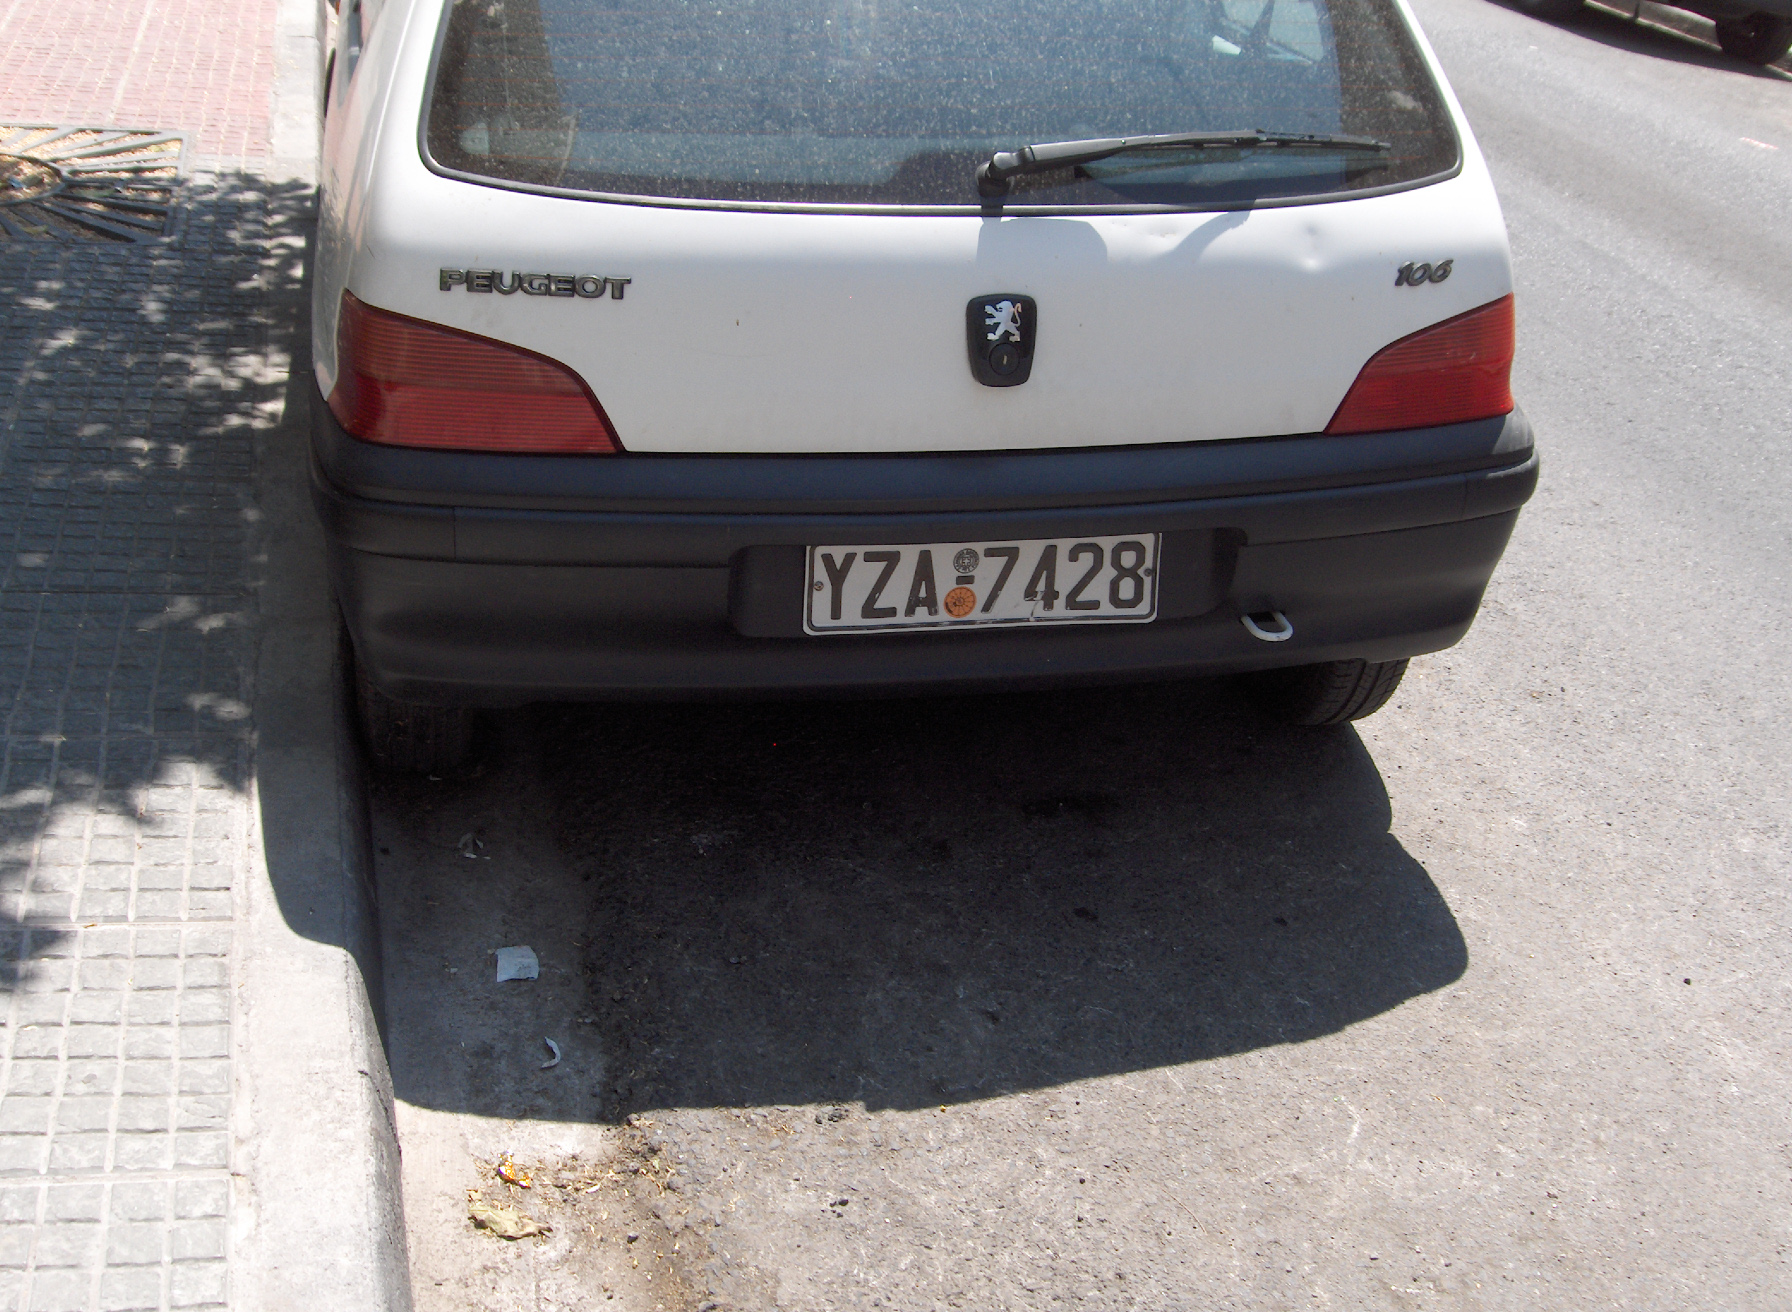licenseplate: (803, 527, 1160, 634)
